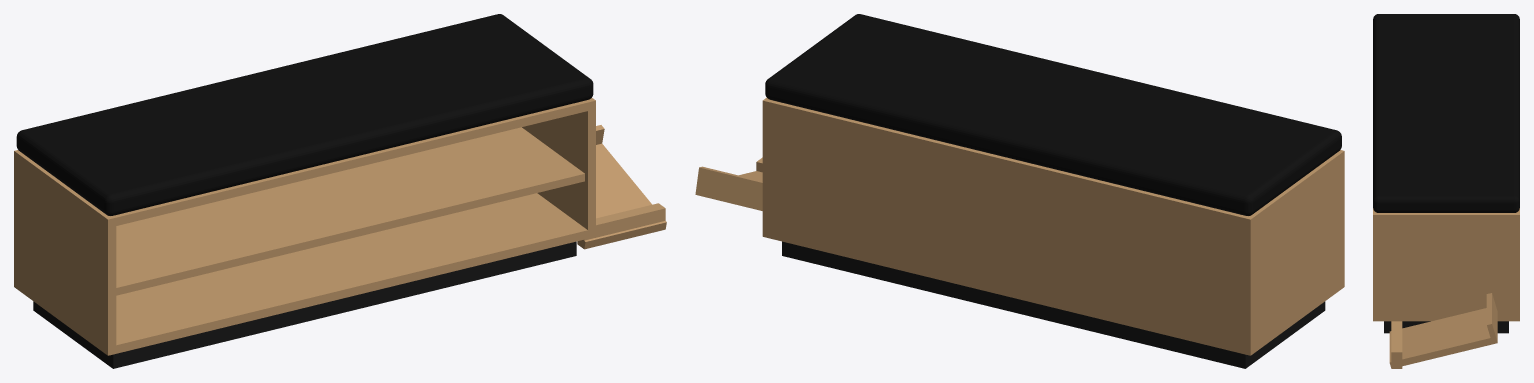
The model's file is 059_shoe_store_try_on_bench.glb.
3 views of the same model, side by side, from view 1: azimuth 30°, elevation 25°; view 2: azimuth 150°, elevation 25°; view 3: azimuth 270°, elevation 25° (orthographic). The views are drawn at different scales.
Visible parts, largest first — view 1: 007_seat_cushion, 005_open_shelf, 003_carcass_bottom, 000_carcass_side_l, 006_recessed_plinth, 002_carcass_top, 001_carcass_side_r, 008_shoe_sizer_slope, 010_sizer_stand; view 2: 004_carcass_back_panel, 007_seat_cushion, 000_carcass_side_l, 006_recessed_plinth, 002_carcass_top, 009_sizer_stop, 001_carcass_side_r, 008_shoe_sizer_slope; view 3: 007_seat_cushion, 001_carcass_side_r, 008_shoe_sizer_slope, 002_carcass_top, 010_sizer_stand, 009_sizer_stop, 006_recessed_plinth.
Boxes of the visible parts, x1=… form: 007_seat_cushion: x1=16, y1=14, x2=593, y2=215; 005_open_shelf: x1=116, y1=127, x2=584, y2=295; 003_carcass_bottom: x1=116, y1=193, x2=587, y2=353; 000_carcass_side_l: x1=14, y1=150, x2=116, y2=355; 006_recessed_plinth: x1=33, y1=241, x2=576, y2=368; 002_carcass_top: x1=14, y1=98, x2=595, y2=226; 001_carcass_side_r: x1=522, y1=98, x2=595, y2=238; 008_shoe_sizer_slope: x1=578, y1=143, x2=666, y2=249; 010_sizer_stand: x1=577, y1=203, x2=665, y2=248; 004_carcass_back_panel: x1=770, y1=111, x2=1242, y2=353; 007_seat_cushion: x1=765, y1=14, x2=1341, y2=215; 000_carcass_side_l: x1=1242, y1=150, x2=1344, y2=355; 006_recessed_plinth: x1=782, y1=241, x2=1325, y2=368; 002_carcass_top: x1=763, y1=97, x2=1344, y2=226; 009_sizer_stop: x1=696, y1=166, x2=762, y2=201; 001_carcass_side_r: x1=762, y1=98, x2=770, y2=238; 008_shoe_sizer_slope: x1=695, y1=171, x2=762, y2=210; 007_seat_cushion: x1=1373, y1=14, x2=1519, y2=212; 001_carcass_side_r: x1=1373, y1=211, x2=1519, y2=321; 008_shoe_sizer_slope: x1=1389, y1=307, x2=1497, y2=368; 002_carcass_top: x1=1373, y1=208, x2=1519, y2=221; 010_sizer_stand: x1=1391, y1=321, x2=1402, y2=368; 009_sizer_stop: x1=1486, y1=293, x2=1495, y2=337; 006_recessed_plinth: x1=1384, y1=321, x2=1508, y2=333.
Bounding box in the file's own units: 1.4 × 0.42 × 0.4.
